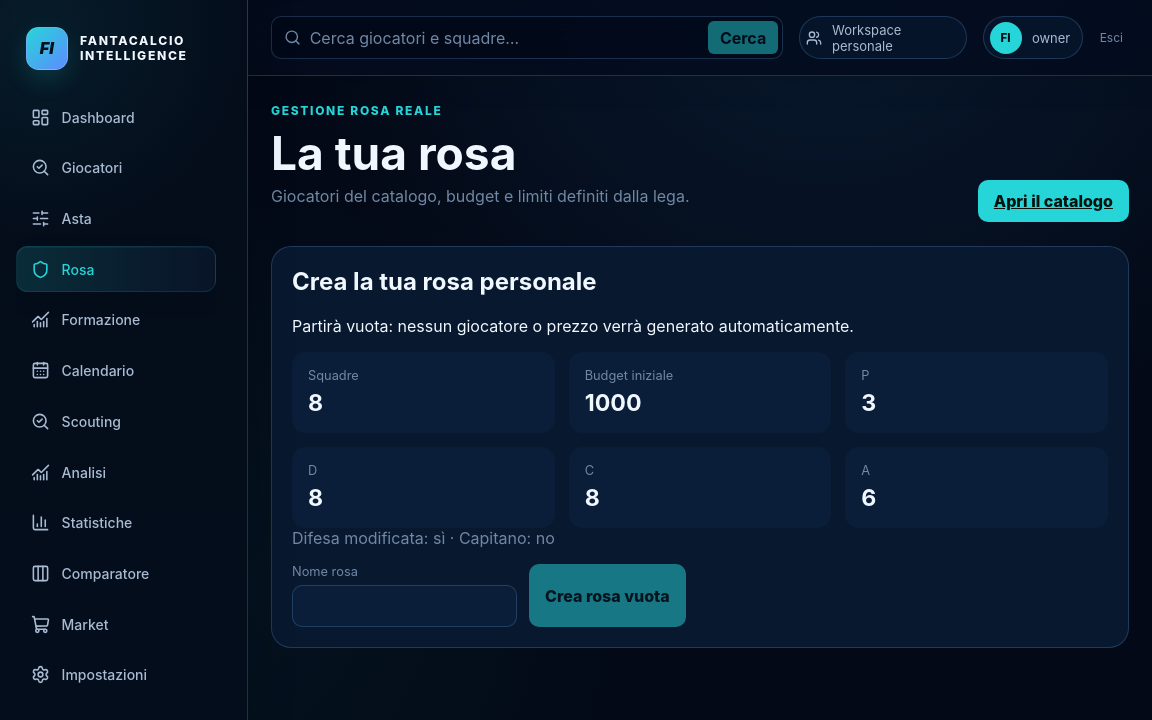
Test case: D02.23 real squad flows › crea una rosa vuota con i vincoli restituiti dalla lega
Check: the text "Budget iniziale" is shown, box left=585, top=368, right=673, bottom=383
Step 1. Type "Mia rosa" into the field labelled "Nome rosa" → x=404, y=606, box left=292, top=585, right=517, bottom=627
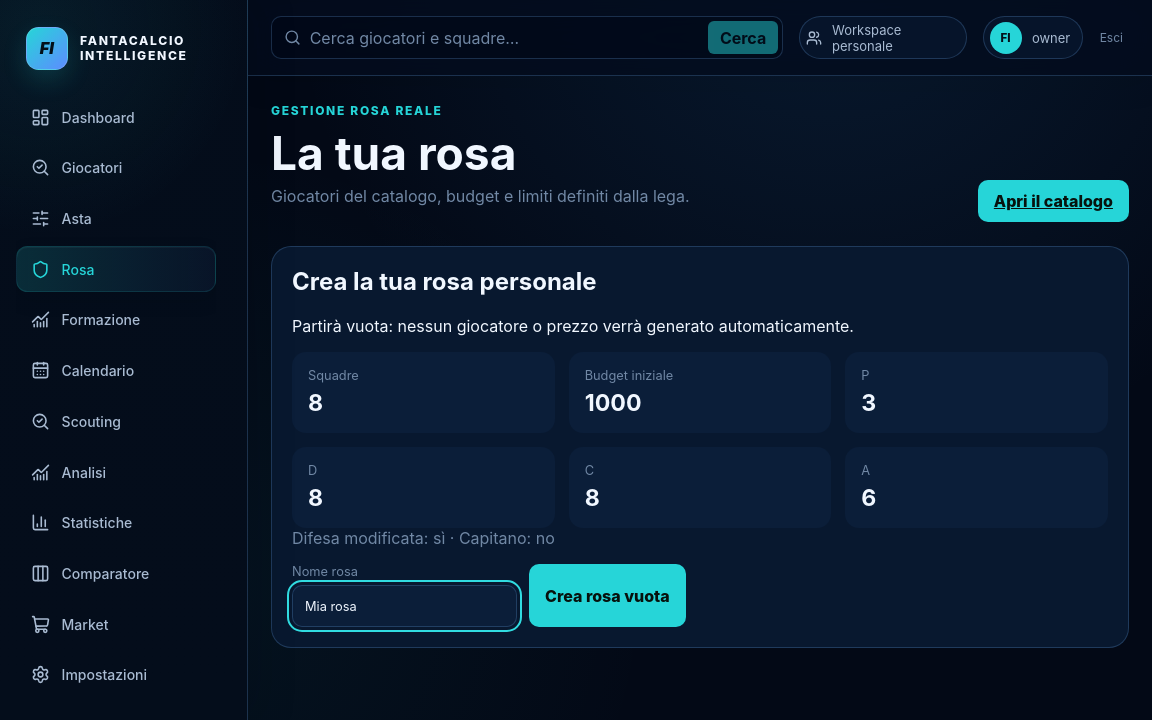
Step 2. Click the button "Crea rosa vuota" → x=607, y=596, box left=529, top=564, right=686, bottom=627
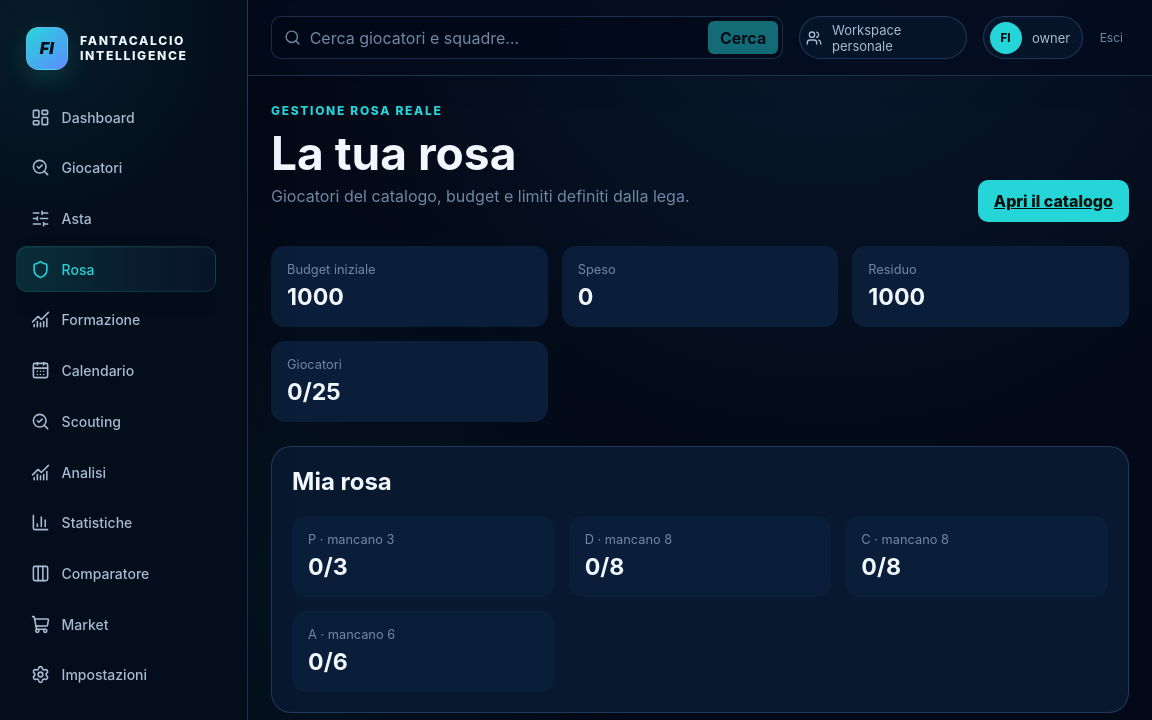
Check: the heading "Mia rosa" is shown, box left=292, top=467, right=392, bottom=496
Check: the text "0/25" is shown, box left=287, top=378, right=341, bottom=406
